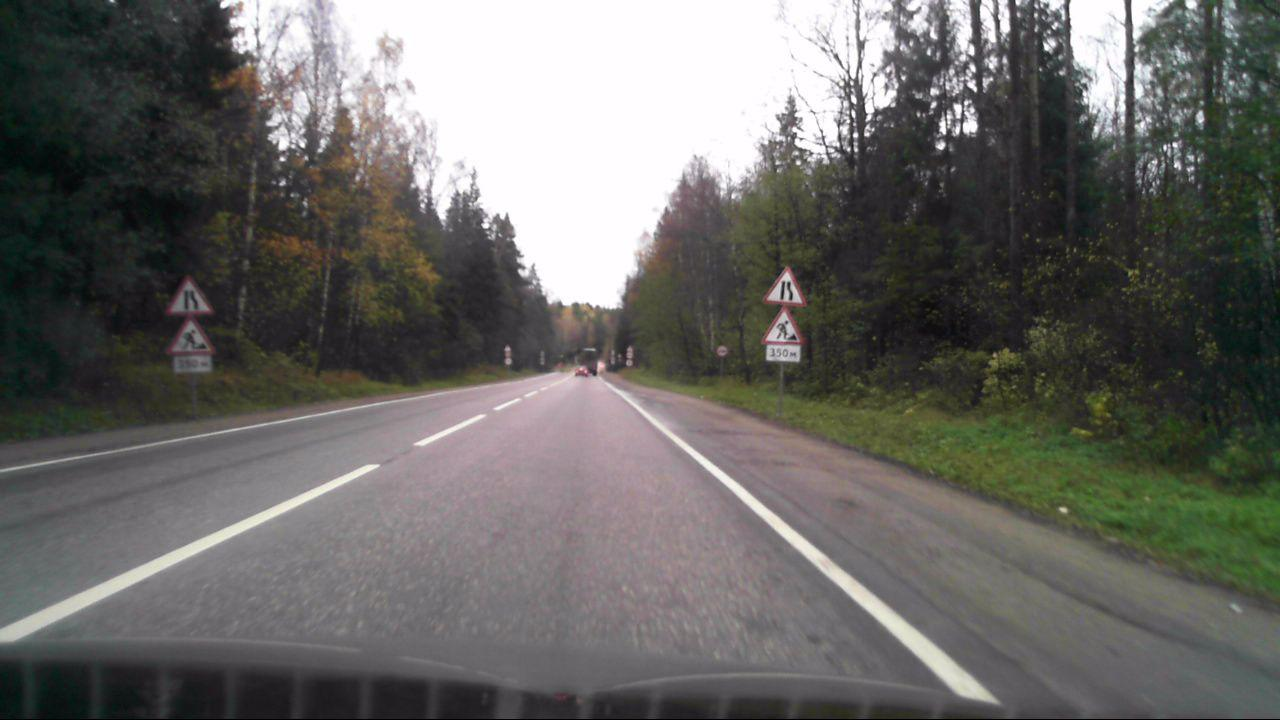1_20_2: (163, 277, 217, 315), (762, 266, 808, 305)
1_25: (167, 316, 216, 354), (759, 308, 807, 345)
3_20: (715, 345, 729, 357)
8_1_1: (172, 355, 213, 373), (762, 345, 801, 362)
